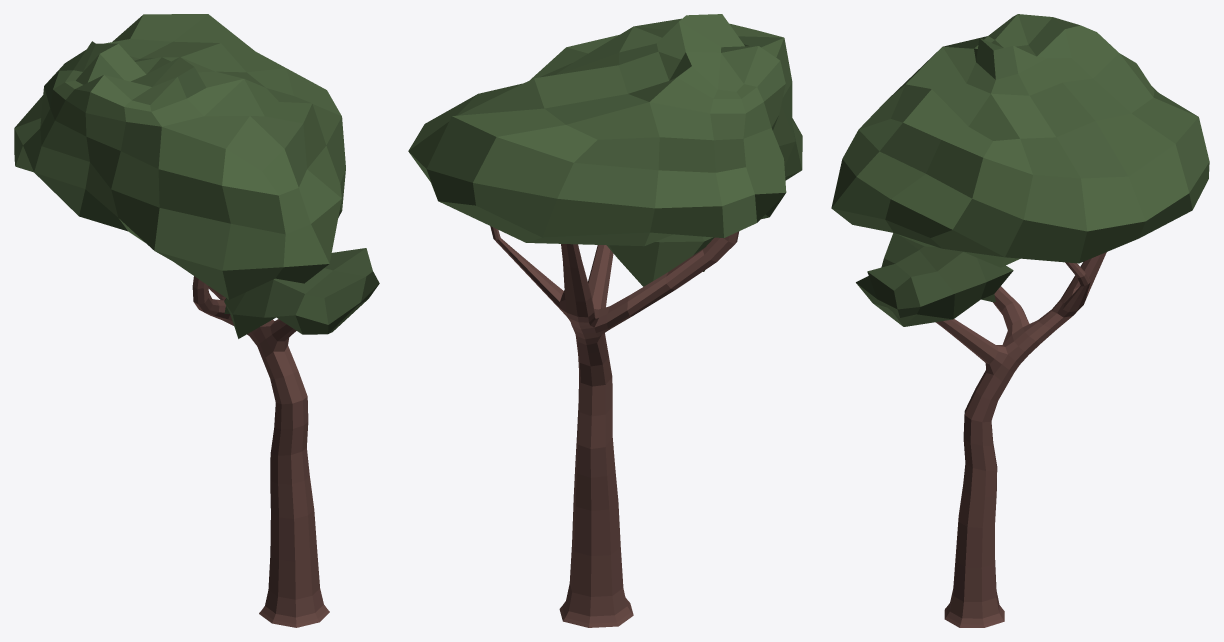
Rendered from CommonTree_4.gltf.
The picture shows the model from 3 angles, left to right: view 1: azimuth 30°, elevation 25°; view 2: azimuth 150°, elevation 25°; view 3: azimuth 270°, elevation 25°; orthographic projection. The views are drawn at different scales.
Parts seen in each view (by area): view 1: CommonTree_4; view 2: CommonTree_4; view 3: CommonTree_4.
Part boxes in pixels (box(x1,y1,x2,y2)): CommonTree_4: box(14, 14, 379, 627); CommonTree_4: box(408, 14, 802, 627); CommonTree_4: box(831, 14, 1209, 627).
Size of the model in its own units: 1.58 by 2.78 by 1.8.
